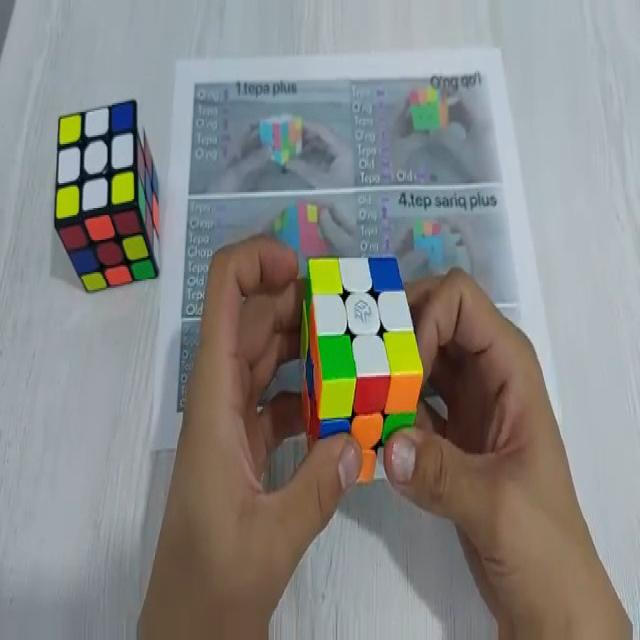Rub: (294, 250, 422, 482), (55, 100, 163, 294)
